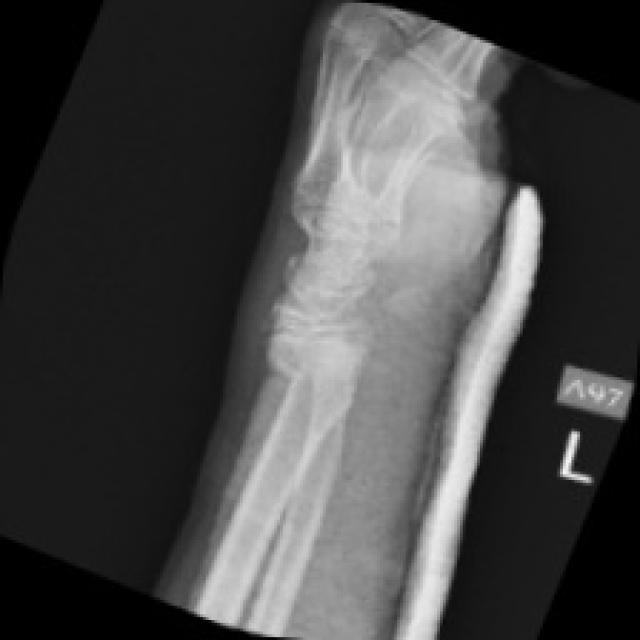fracture: (264, 229, 366, 402)
